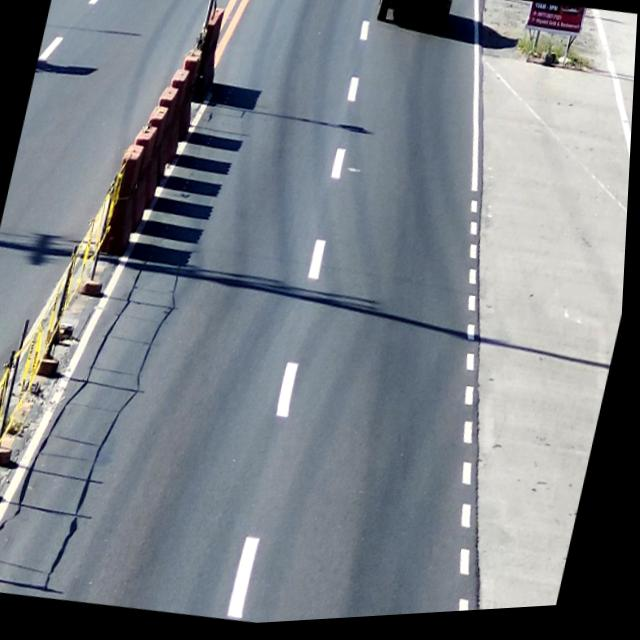Car: (372, 0, 458, 44)
